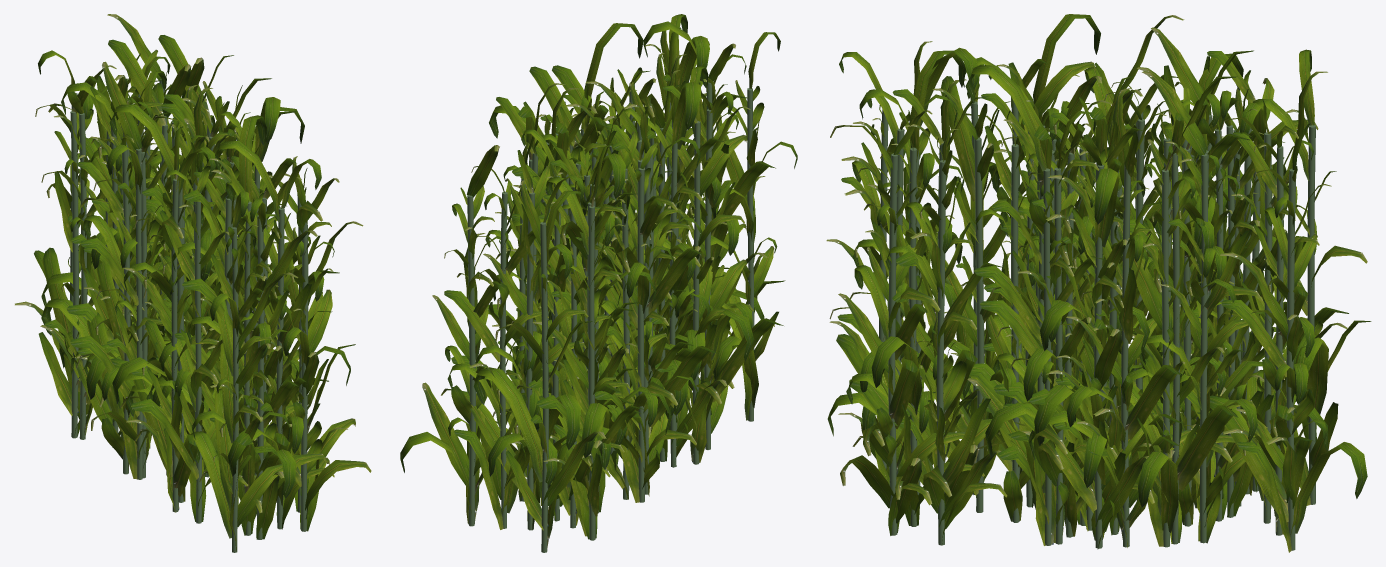
The model's file is milharal3x9_denso3.fbx.
The picture shows the model from 3 angles, left to right: view 1: azimuth 30°, elevation 25°; view 2: azimuth 150°, elevation 25°; view 3: azimuth 270°, elevation 25°; orthographic projection. The views are drawn at different scales.
Parts seen in each view (by area): view 1: Plantacao2; view 2: Plantacao2; view 3: Plantacao2.
Part boxes in pixels (left/top/right/bottom): Plantacao2: left=15, top=14, right=371, bottom=552; Plantacao2: left=400, top=14, right=797, bottom=552; Plantacao2: left=826, top=14, right=1371, bottom=552.
Bounding box in the file's own units: 647 × 1082 × 1130.
